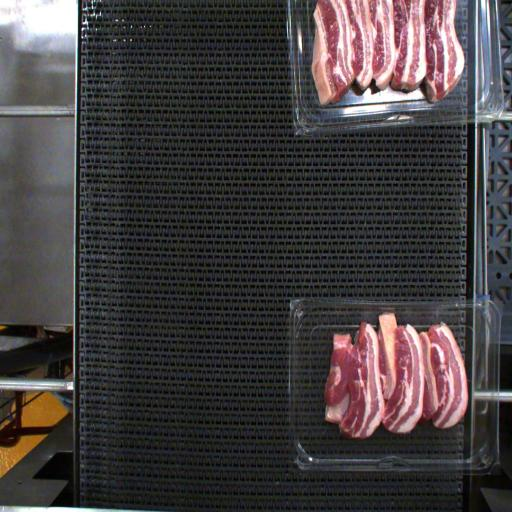twisted-meat: (375, 311, 408, 396)
